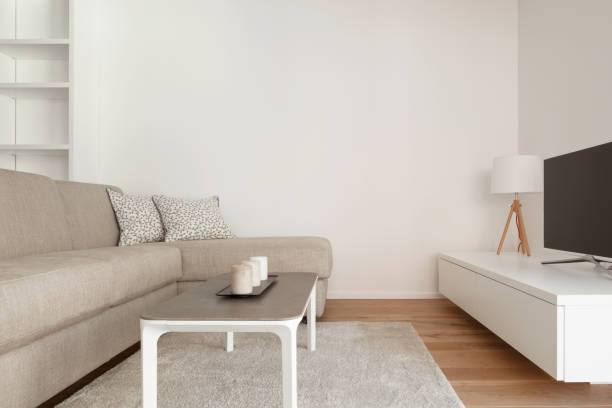TV: (540, 140, 612, 276)
TV stand: (434, 247, 612, 388)
sofa: (0, 166, 335, 408)
table: (135, 267, 319, 408)
table lamp: (485, 151, 544, 258)
